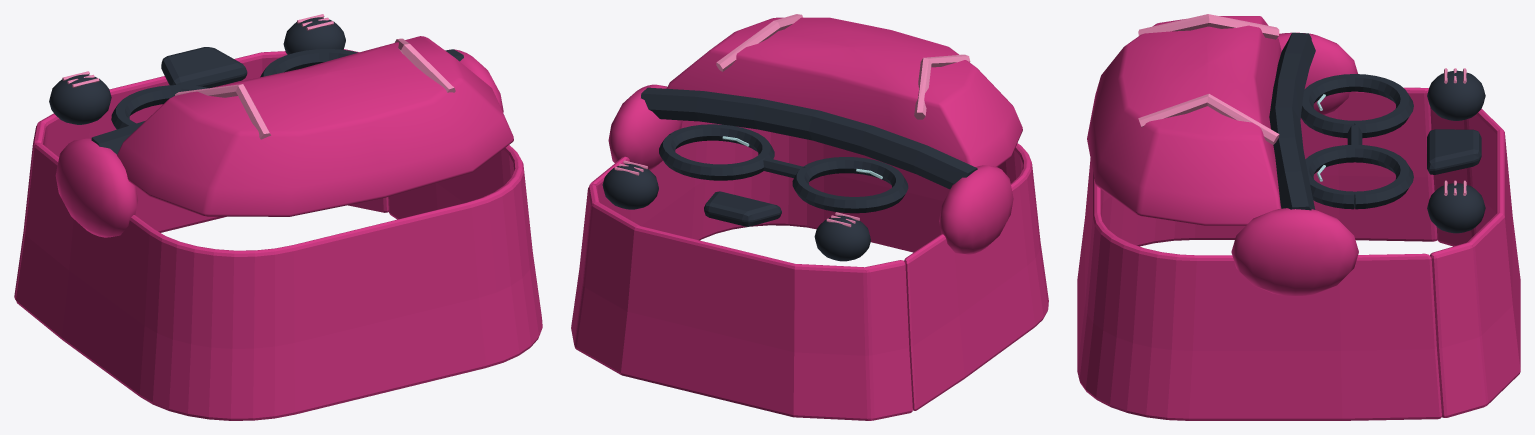
The model's file is reidite_protection.fbx.
3 renders of one model, left to right at view 1: azimuth 30°, elevation 25°; view 2: azimuth 150°, elevation 25°; view 3: azimuth 270°, elevation 25°, orthographic. The views are drawn at different scales.
Visible parts, largest first — view 1: reidite_protection_armor; view 2: reidite_protection_armor; view 3: reidite_protection_armor.
Boxes of the visible parts, box(x1,y1,x2,y2) form: reidite_protection_armor: box(14, 14, 542, 420); reidite_protection_armor: box(571, 14, 1048, 420); reidite_protection_armor: box(1077, 14, 1520, 420).
Bounding box in the file's own units: 4.52 × 2.89 × 4.24.
Materials: 1 (1 with a texture image).
